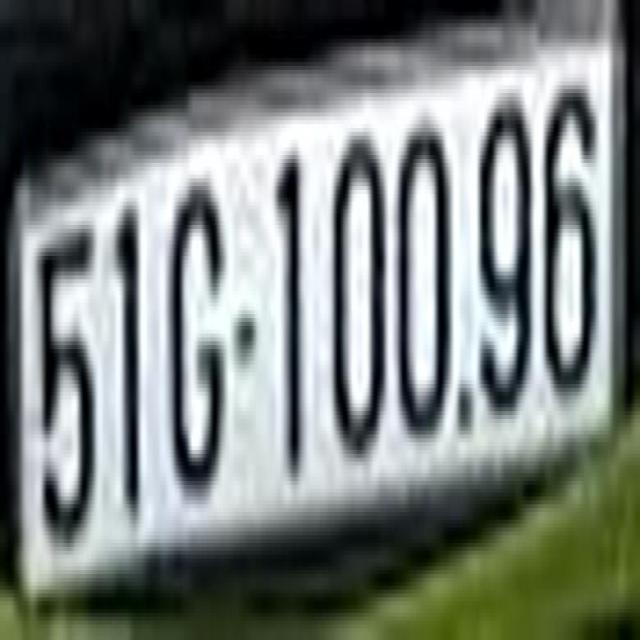0: (334, 109, 387, 462), (394, 113, 448, 446)
1: (108, 198, 150, 543), (272, 132, 304, 477)
5: (34, 217, 98, 547)
6: (543, 82, 601, 400)
9: (476, 89, 530, 419)
G: (166, 163, 226, 489)
